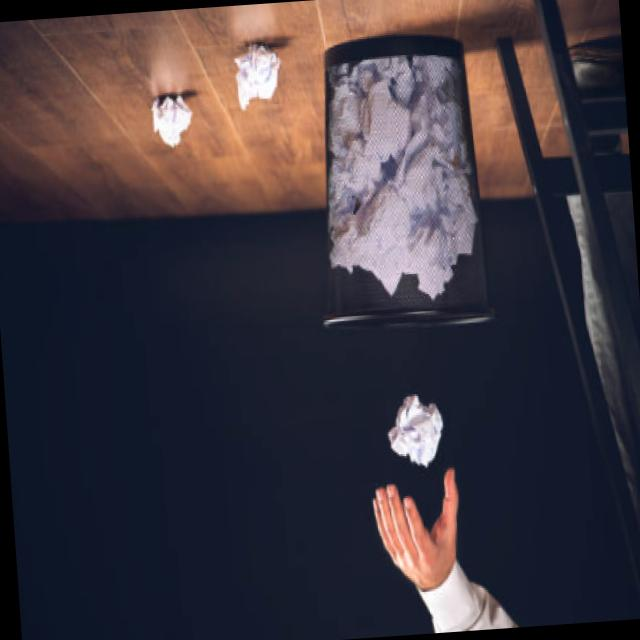KertasBekas: (314, 44, 487, 310), (386, 392, 448, 472), (233, 40, 285, 112), (151, 93, 196, 150)
